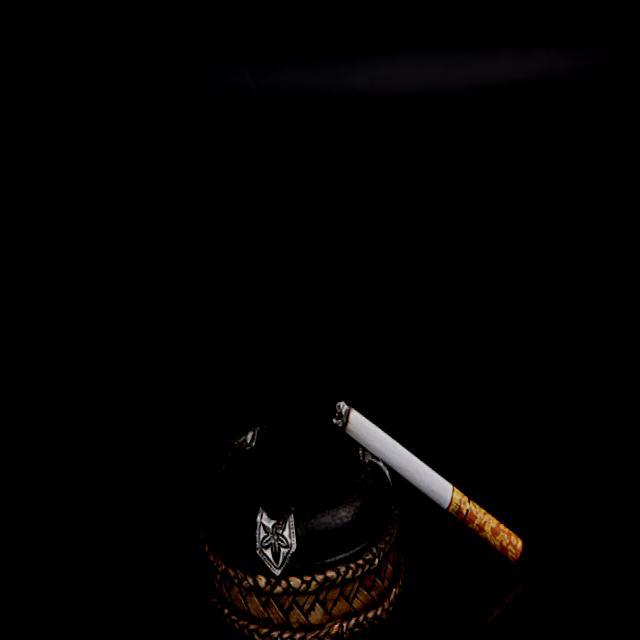cigarette: (330, 374, 528, 588)
